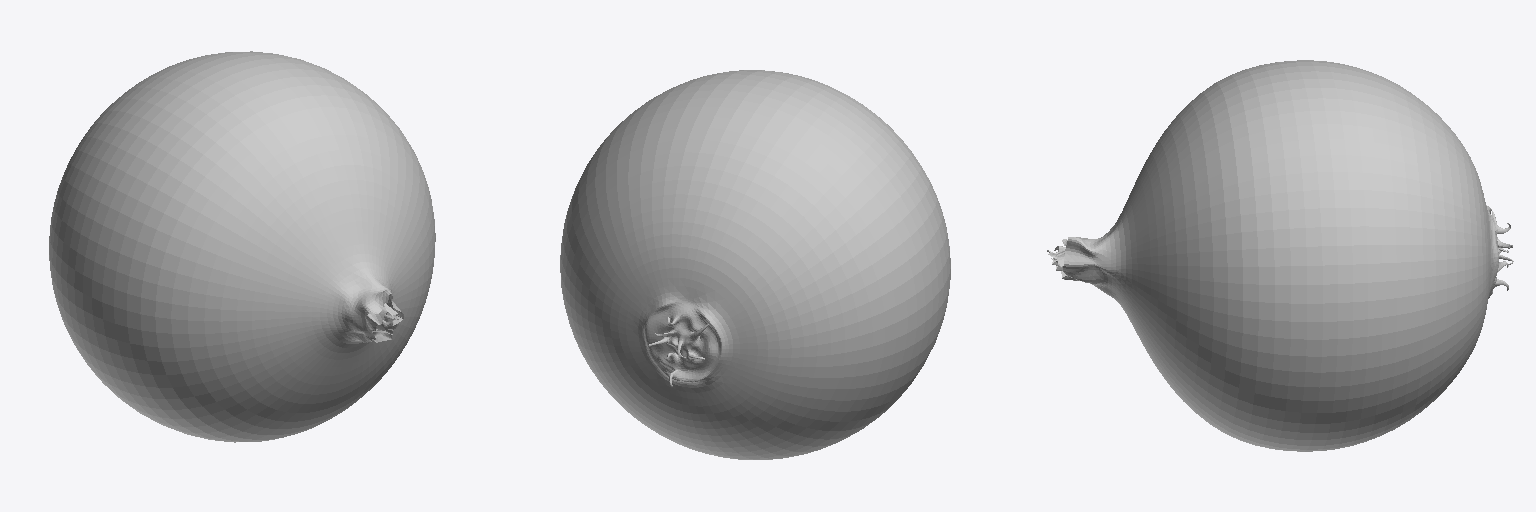
Rendered from onion.obj.
The picture shows the model from 3 angles: view 1: azimuth 30°, elevation 25°; view 2: azimuth 150°, elevation 25°; view 3: azimuth 270°, elevation 25°; orthographic projection.
Parts seen in each view (by area): view 1: AnyConv.com__uploads_files_902187_Onion; view 2: AnyConv.com__uploads_files_902187_Onion; view 3: AnyConv.com__uploads_files_902187_Onion.
Part boxes in pixels (left/top/right/bottom): AnyConv.com__uploads_files_902187_Onion: left=49, top=51, right=435, bottom=442; AnyConv.com__uploads_files_902187_Onion: left=560, top=70, right=950, bottom=459; AnyConv.com__uploads_files_902187_Onion: left=1047, top=60, right=1513, bottom=451.
Size of the model in its own units: 2.66 by 2.66 by 3.17.